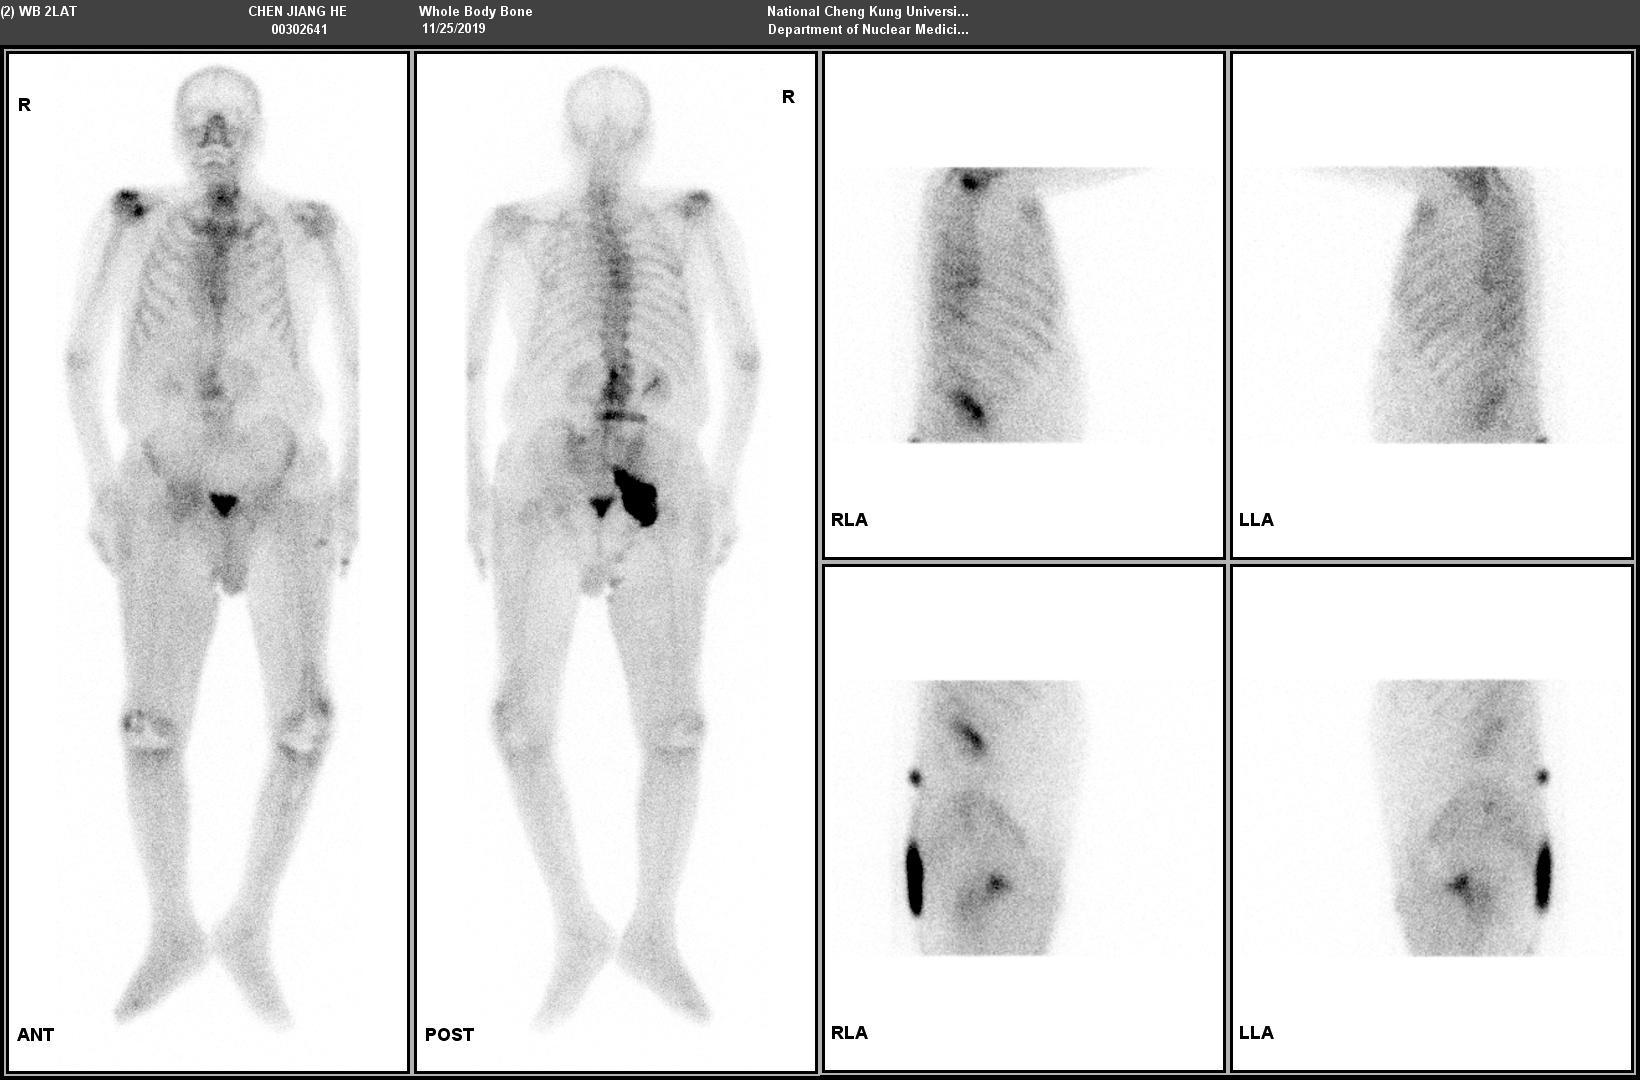person: (6, 54, 816, 1070)
